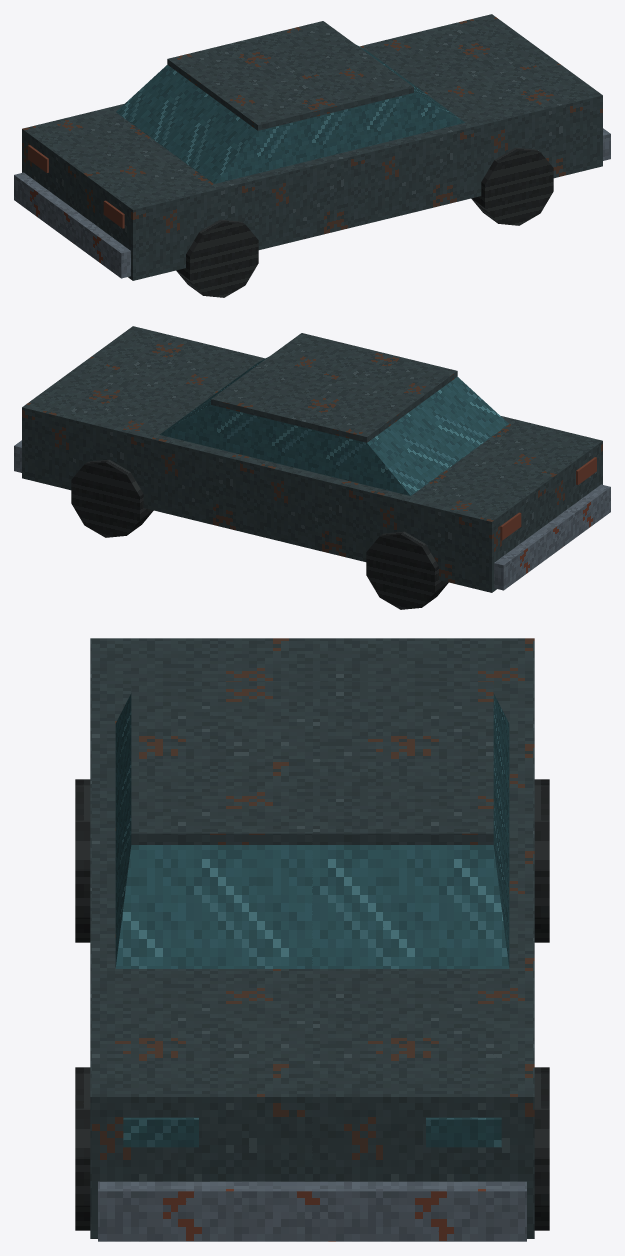
File: car_wreck.glb
3 renders of one model, top to bottom at view 1: azimuth 30°, elevation 25°; view 2: azimuth 150°, elevation 25°; view 3: azimuth 270°, elevation 25°, orthographic. The views are drawn at different scales.
Parts seen in each view (by area): view 1: car_wreck; view 2: car_wreck; view 3: car_wreck.
Part boxes in pixels (x1=…): car_wreck: x1=14, y1=14, x2=610, y2=297; car_wreck: x1=14, y1=326, x2=610, y2=609; car_wreck: x1=75, y1=638, x2=549, y2=1241.
Bounding box in the file's own units: 4.48 × 1.32 × 1.88.
Materials: 5 (4 with a texture image).
